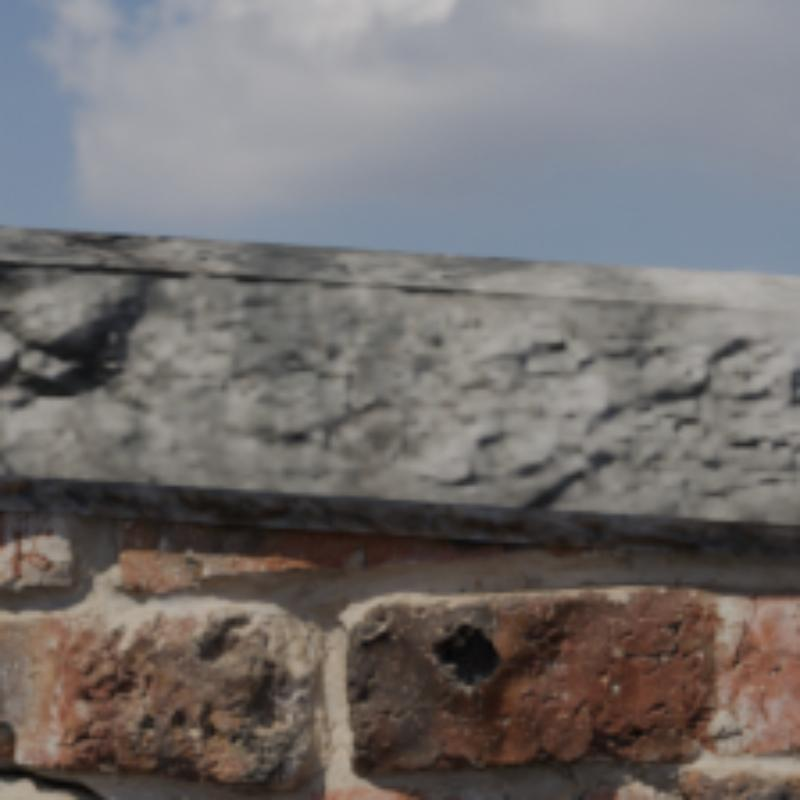crack: (0, 761, 107, 796)
